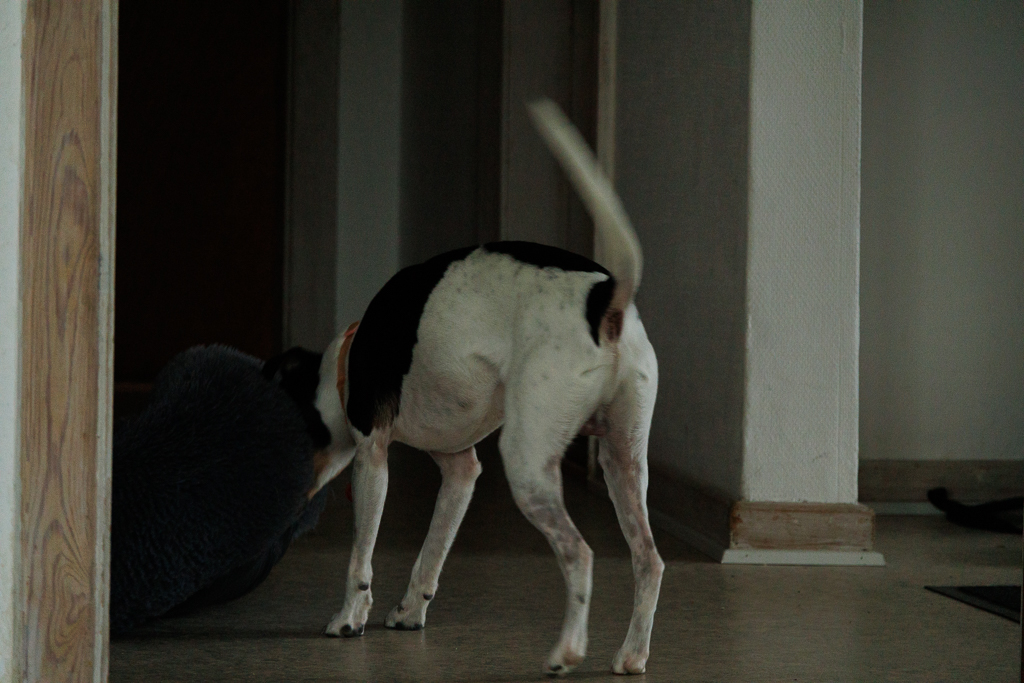Dog: (250, 74, 680, 683)
